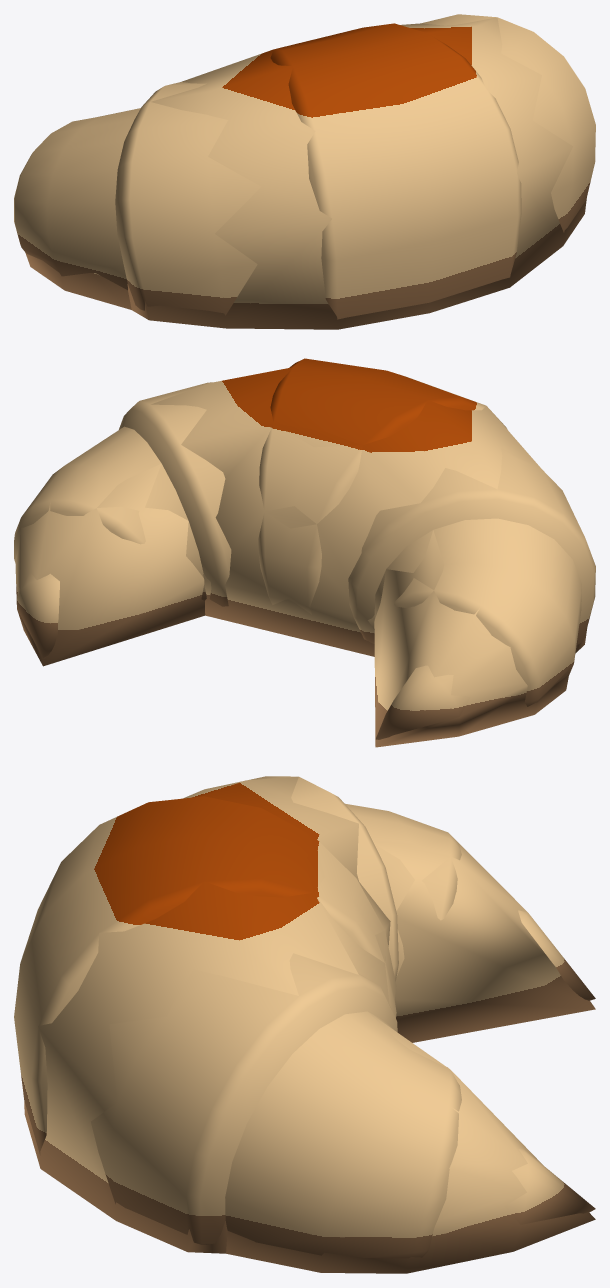
Rendered from Deco_Croissant_Collider_Compound.glb.
3 renders of one model, top to bottom at view 1: azimuth 30°, elevation 25°; view 2: azimuth 150°, elevation 25°; view 3: azimuth 270°, elevation 25°, orthographic. The views are drawn at different scales.
Visible parts, largest first — view 1: Deco_Croissant_Collider_Compound, Deco_Croissant_Collider_ConvexHull_01, Deco_Croissant_Collider_ConvexHull_02; view 2: Deco_Croissant_Collider_Compound, Deco_Croissant_Collider_ConvexHull_01, Deco_Croissant_Collider_ConvexHull_03, Deco_Croissant_Collider_ConvexHull_02; view 3: Deco_Croissant_Collider_Compound, Deco_Croissant_Collider_ConvexHull_01, Deco_Croissant_Collider_ConvexHull_02, Deco_Croissant_Collider_ConvexHull_03.
Part boxes in pixels (box(x1,y1,x2,y2)): Deco_Croissant_Collider_Compound: box(14, 14, 595, 319); Deco_Croissant_Collider_ConvexHull_01: box(127, 17, 586, 329); Deco_Croissant_Collider_ConvexHull_02: box(25, 110, 131, 309); Deco_Croissant_Collider_Compound: box(14, 358, 595, 739); Deco_Croissant_Collider_ConvexHull_01: box(151, 367, 587, 656); Deco_Croissant_Collider_ConvexHull_03: box(15, 463, 205, 666); Deco_Croissant_Collider_ConvexHull_02: box(374, 530, 568, 747); Deco_Croissant_Collider_Compound: box(14, 776, 595, 1258); Deco_Croissant_Collider_ConvexHull_01: box(24, 776, 390, 1253); Deco_Croissant_Collider_ConvexHull_02: box(372, 837, 595, 1042); Deco_Croissant_Collider_ConvexHull_03: box(226, 1013, 595, 1273).
Size of the model in its own units: 4.88 by 1.9 by 3.6.
1 material, 1 textured.
